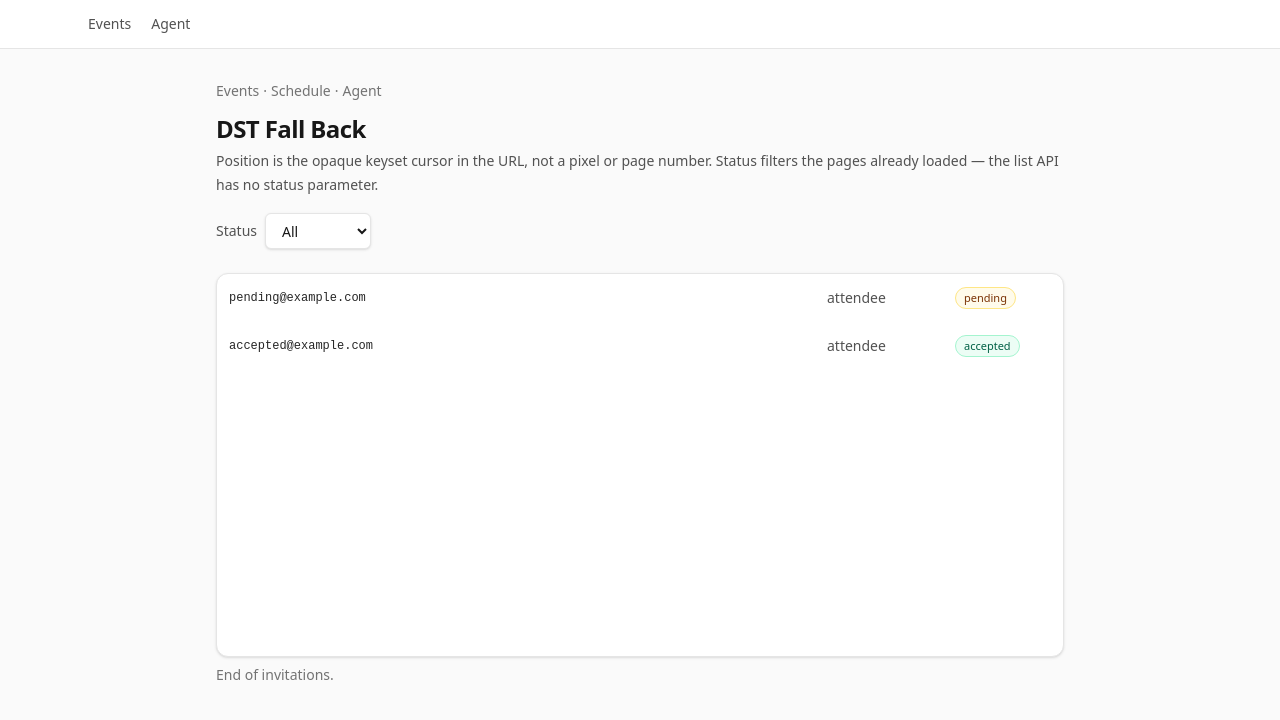
invitations search state › writes the filter to the URL and re-queries from the start
Check: the text "pending@example.com" is shown, box 229,291 -> 366,305
Check: the text "accepted@example.com" is shown, box 229,339 -> 373,353
Step 1. Select "accepted" in the dropdown named "Invitation status" → coordinates (318, 231), box 265,213 -> 371,249
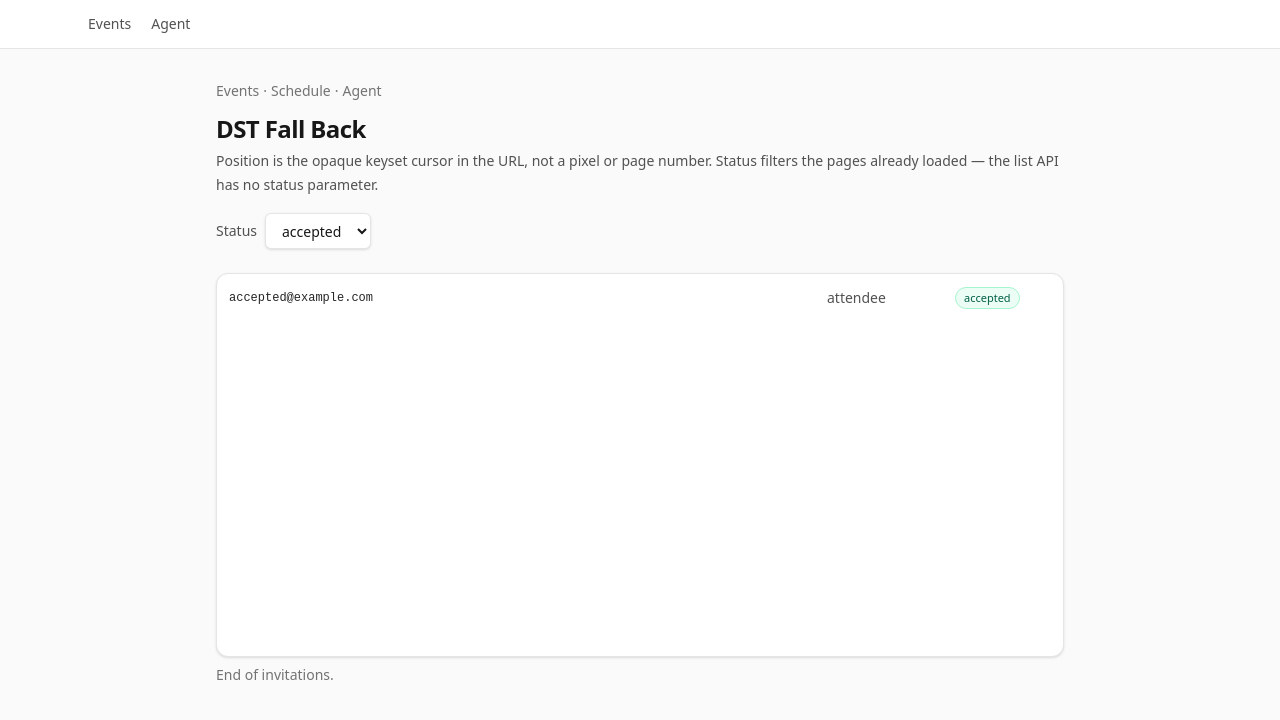
Check: the text "accepted@example.com" is shown, box 229,291 -> 373,305
Check: the text "pending@example.com" is gone
